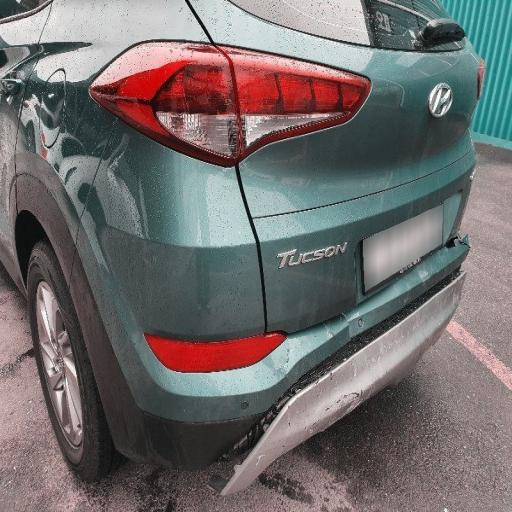broken: (182, 292, 432, 499)
